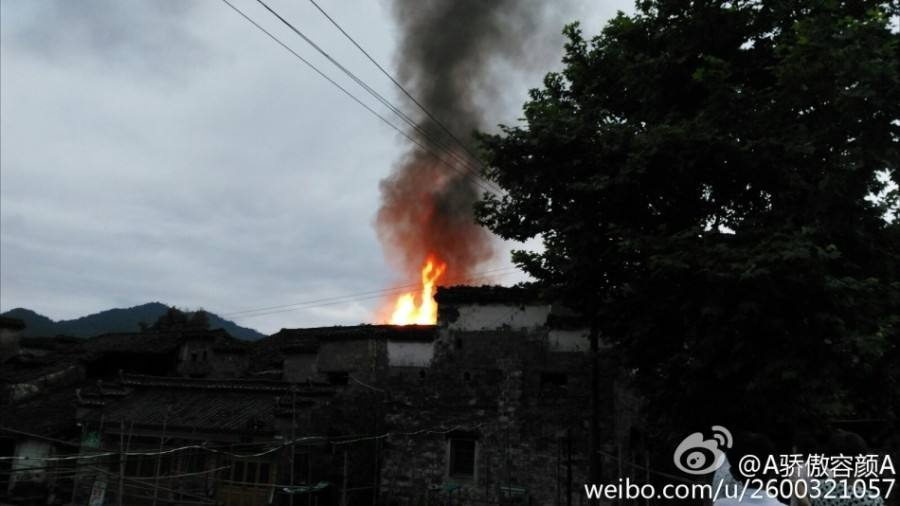fire: (387, 256, 443, 331)
